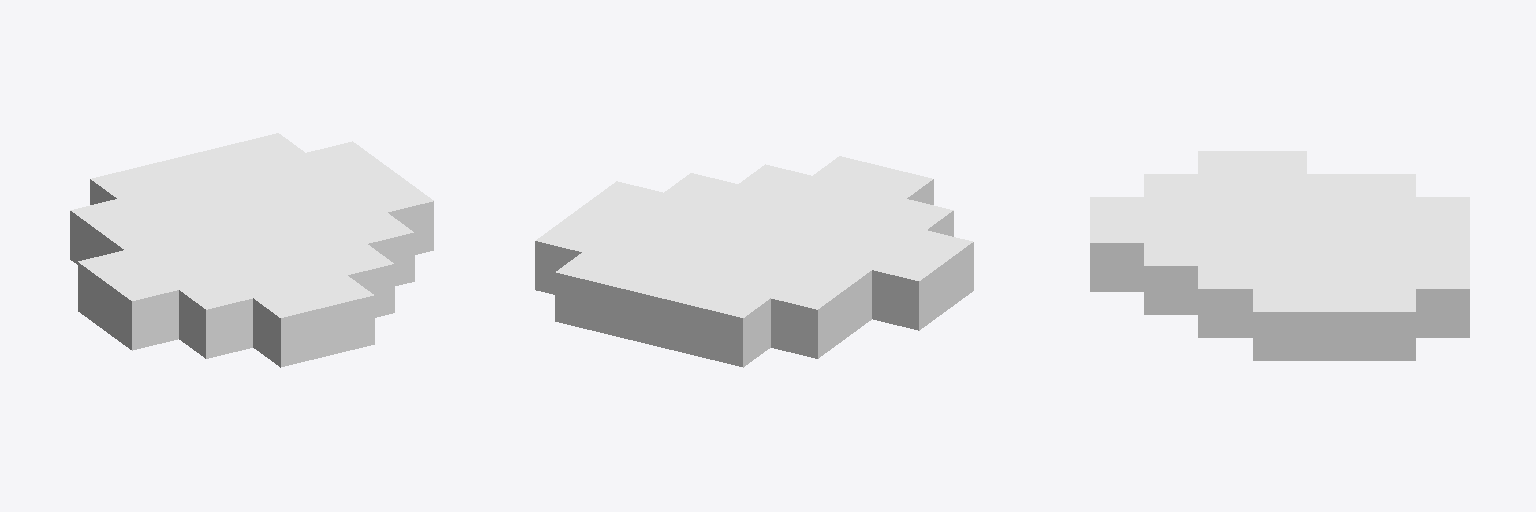
File: Picnic_Set-7.obj
3 renders of one model, left to right at view 1: azimuth 30°, elevation 25°; view 2: azimuth 150°, elevation 25°; view 3: azimuth 270°, elevation 25°, orthographic.
Parts seen in each view (by area): view 1: object 1; view 2: object 1; view 3: object 1.
Part boxes in pixels (x1,y1,x2,y2): object 1: (70,133,433,367); object 1: (535,156,973,367); object 1: (1090,151,1469,360).
Bounding box in the file's own units: 0.7 × 0.1 × 0.7.